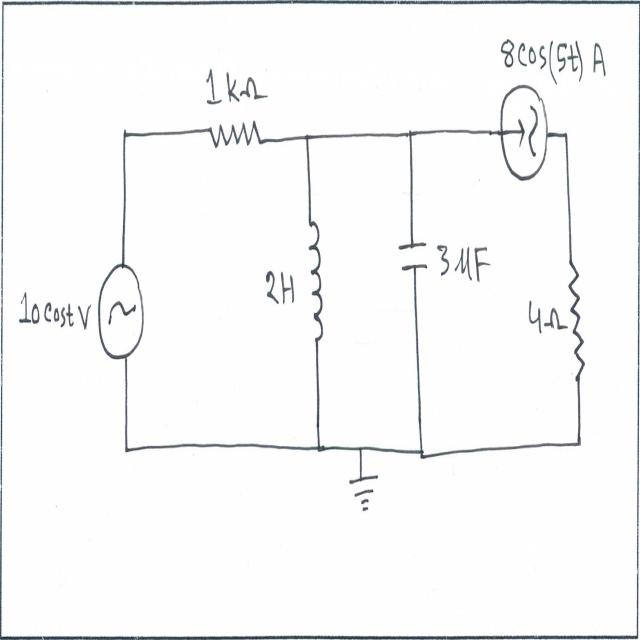ac_current: (92, 252, 148, 376)
capacitor: (391, 226, 434, 286)
current_source: (497, 73, 551, 184)
ground: (346, 463, 380, 518)
inductor: (300, 211, 334, 370)
resistor: (204, 111, 265, 169), (565, 249, 588, 387)
